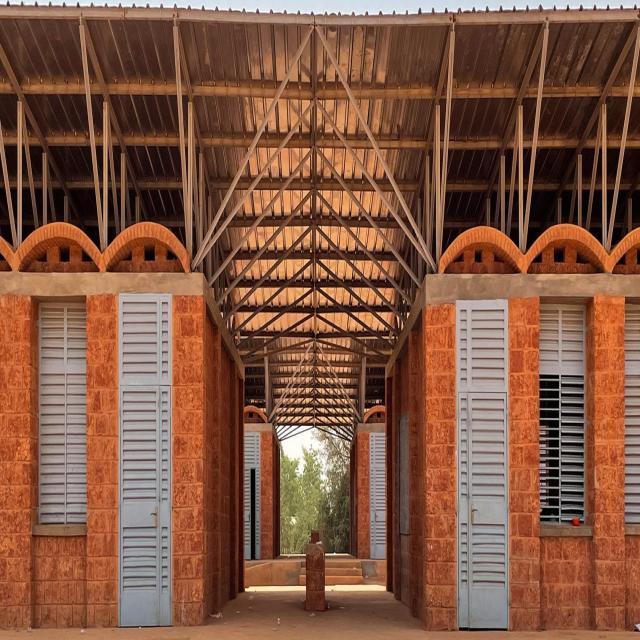door: (116, 285, 172, 621), (456, 293, 508, 624)
wall: (3, 4, 640, 629)
windows: (38, 289, 88, 518), (542, 294, 590, 516), (623, 298, 637, 514), (245, 425, 261, 554), (371, 429, 386, 553)
